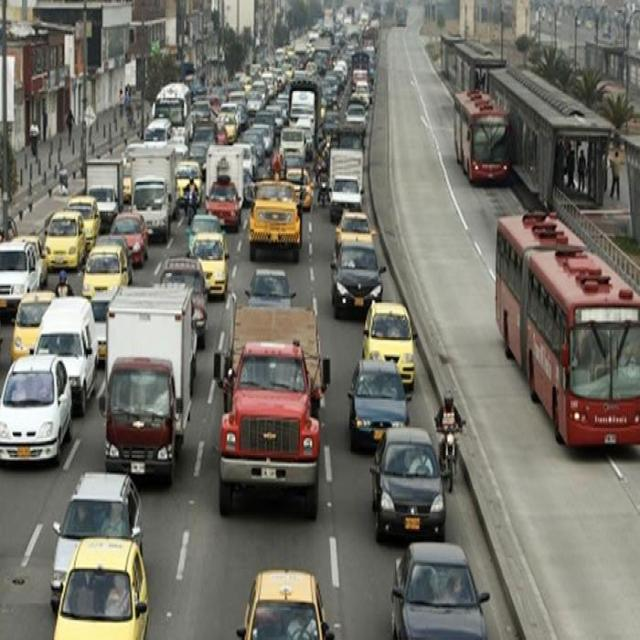BUS: (492, 216, 639, 460), (458, 100, 511, 186)
